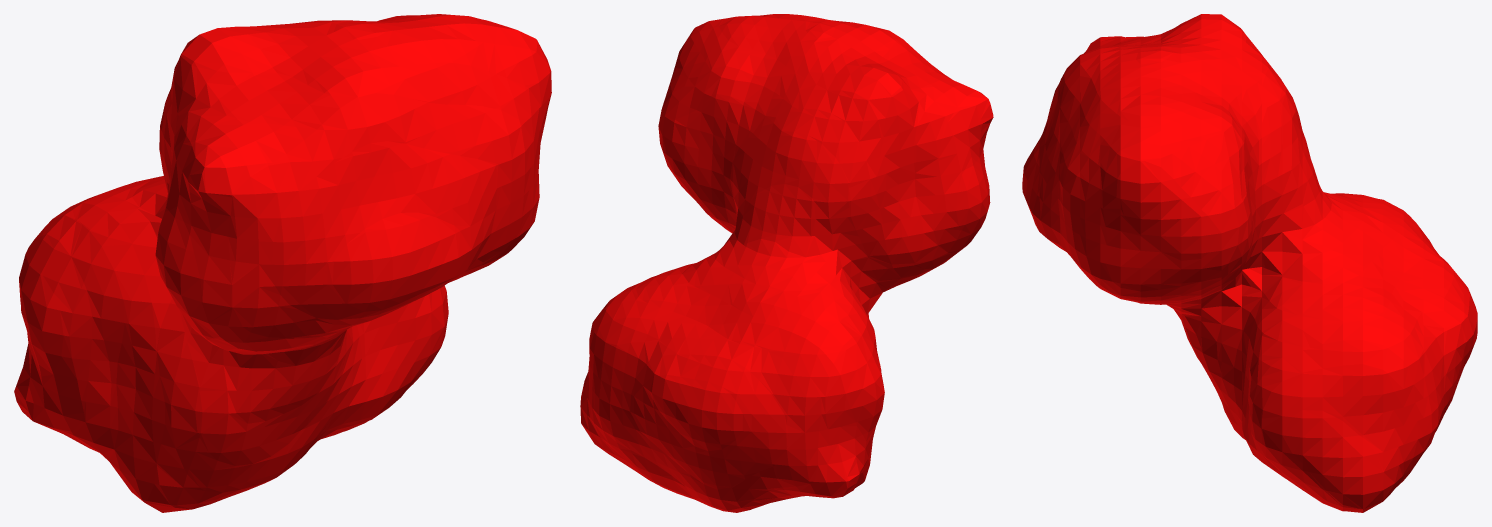
Rendered from ptsH_coarse.dae.
3 views of the same model, side by side, from view 1: azimuth 30°, elevation 25°; view 2: azimuth 150°, elevation 25°; view 3: azimuth 270°, elevation 25° (orthographic). The views are drawn at different scales.
Parts seen in each view (by area): view 1: ptsH; view 2: ptsH; view 3: ptsH.
Part boxes in pixels (left/top/right/bottom): ptsH: left=14, top=14, right=551, bottom=512; ptsH: left=580, top=14, right=993, bottom=512; ptsH: left=1022, top=14, right=1477, bottom=512.
Bounding box in the file's own units: 38.06 × 49.32 × 47.76.
